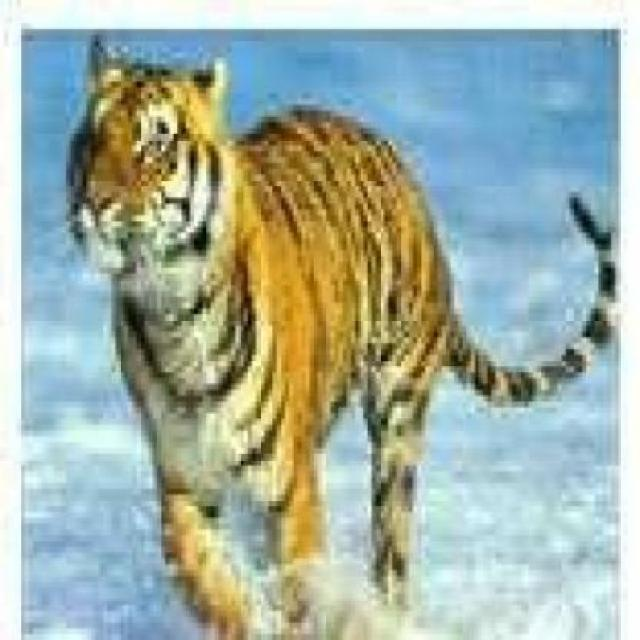Tiger: (50, 11, 619, 637)
